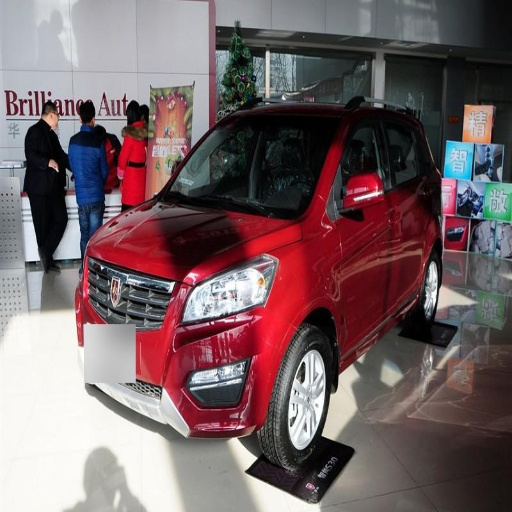front_bumper: (77, 259, 292, 439)
front_glass: (147, 116, 340, 220)
front_left_door: (333, 114, 395, 345)
